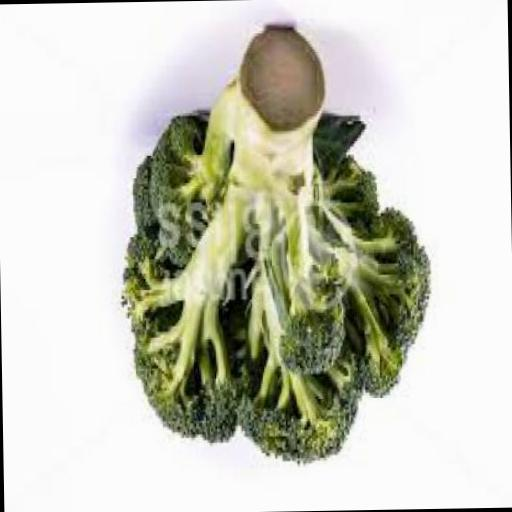biodegradable: (118, 25, 436, 472)
